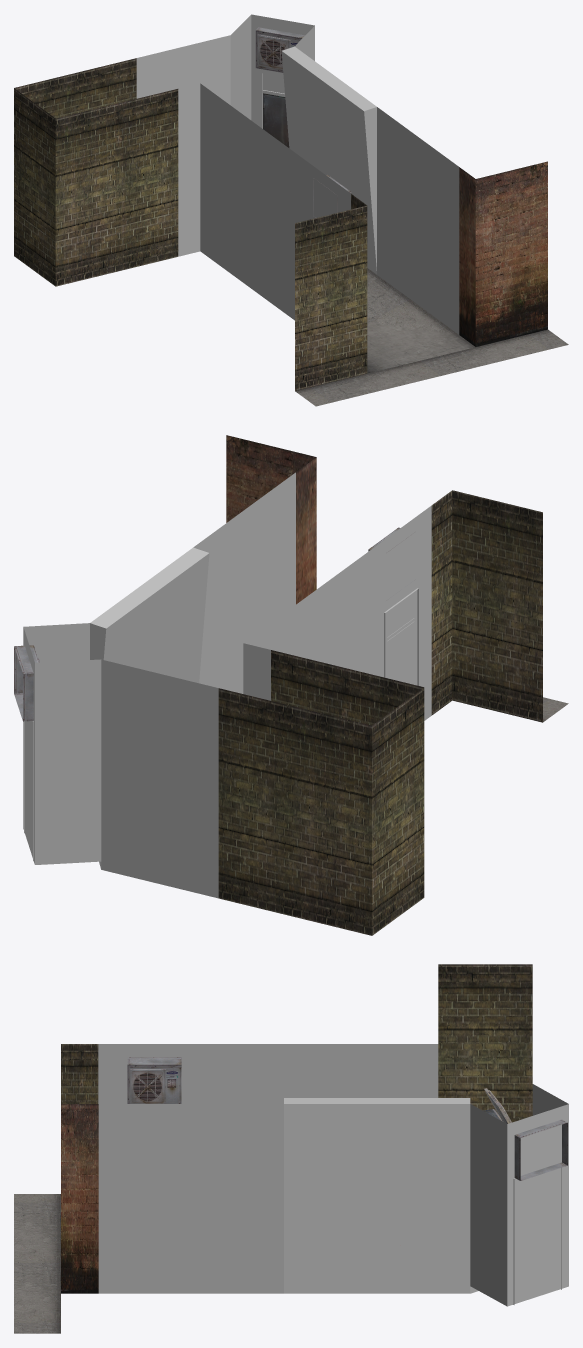
The model's file is Alley_04.fbx.
3 renders of one model, top to bottom at view 1: azimuth 30°, elevation 25°; view 2: azimuth 150°, elevation 25°; view 3: azimuth 270°, elevation 25°, orthographic. The views are drawn at different scales.
Visible parts, largest first — view 1: Alley_04; view 2: Alley_04; view 3: Alley_04.
Part boxes in pixels (x1,y1,x2,y2): Alley_04: [14, 14, 568, 406]; Alley_04: [14, 435, 568, 935]; Alley_04: [14, 964, 568, 1333].
Size of the model in its own units: 900 by 448 by 1177.
